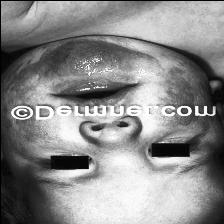Non-Cancerous Skin Condition: (5, 40, 153, 94), (156, 66, 221, 104), (7, 122, 74, 145)
